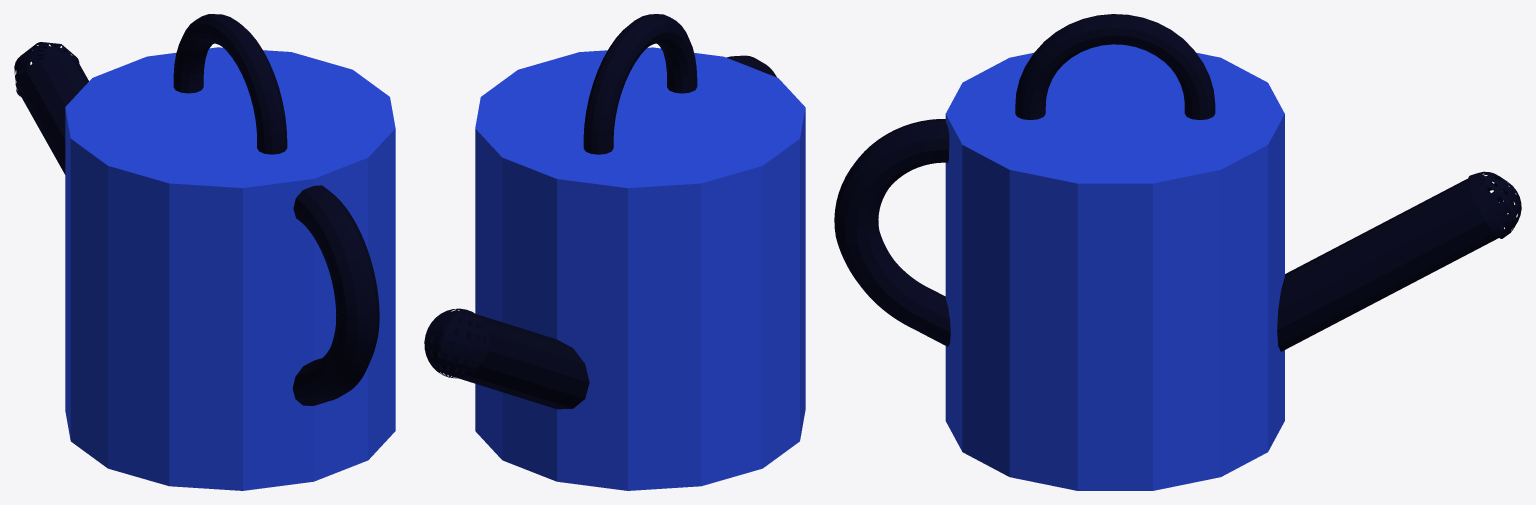
File: WaterCan.fbx
3 renders of one model, left to right at view 1: azimuth 30°, elevation 25°; view 2: azimuth 150°, elevation 25°; view 3: azimuth 270°, elevation 25°, orthographic.
Parts seen in each view (by area): view 1: WaterCan; view 2: WaterCan; view 3: WaterCan.
Part boxes in pixels (<box>): WaterCan: <box>14,14,395,490</box>; WaterCan: <box>424,14,805,490</box>; WaterCan: <box>834,14,1521,490</box>.
Size of the model in its own units: 48.75 by 66 by 101.
